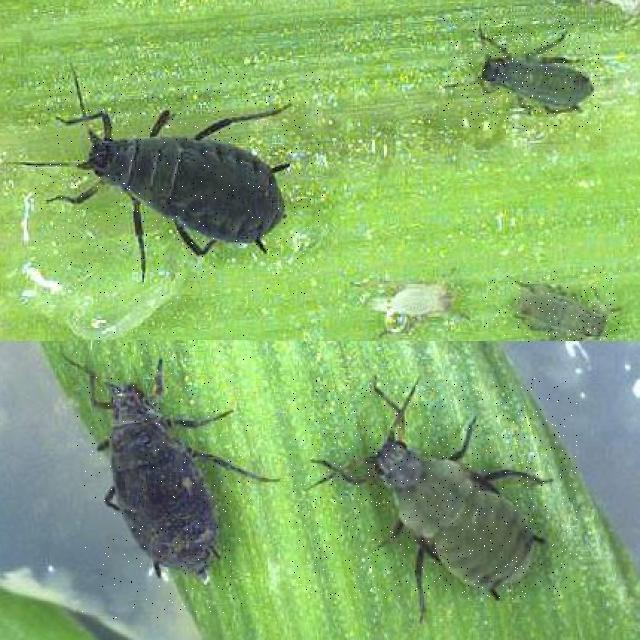aphid: (32, 71, 322, 304), (289, 378, 577, 599), (76, 328, 252, 620), (442, 17, 600, 131), (484, 266, 620, 343)
